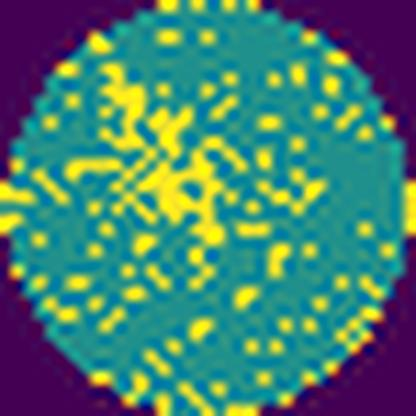Loc: (94, 61, 247, 243)
